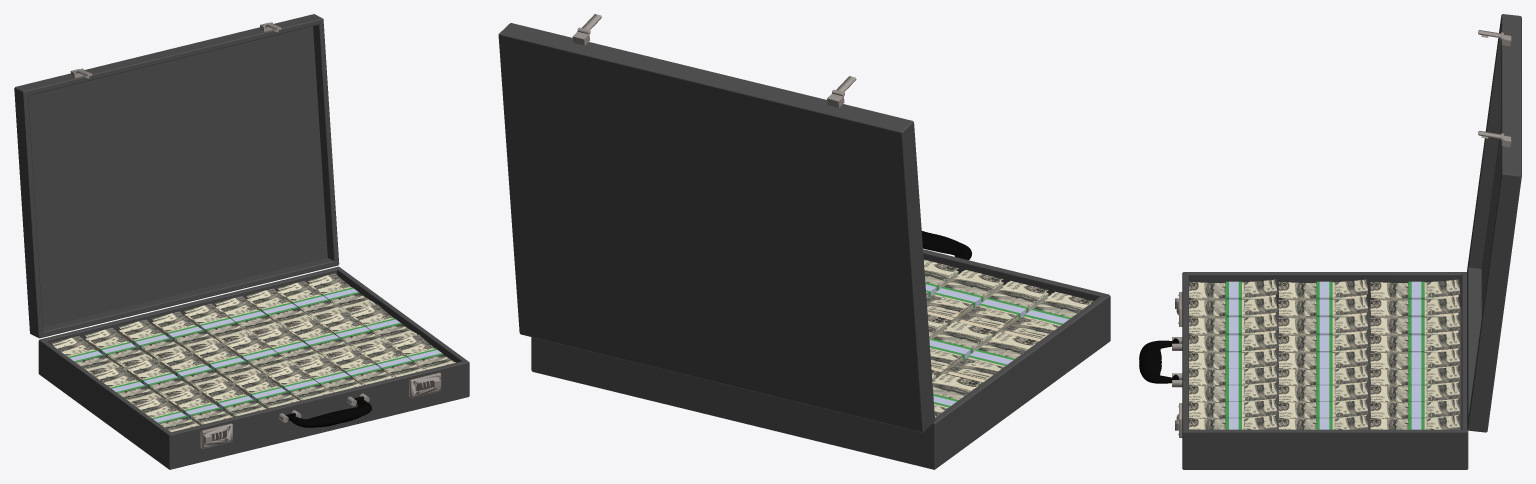
File: Tasna 100 dollar.fbx
3 views of the same model, side by side, from view 1: azimuth 30°, elevation 25°; view 2: azimuth 150°, elevation 25°; view 3: azimuth 270°, elevation 25° (orthographic). The views are drawn at different scales.
Visible parts, largest first — view 1: BRIEFCASE, 100 dollar (×27), BRIEFCASE_GOLD, BRIEFCASE_HANDLE; view 2: BRIEFCASE, 100 dollar (×6), BRIEFCASE_GOLD, BRIEFCASE_HANDLE; view 3: BRIEFCASE, 100 dollar (×27), BRIEFCASE_GOLD, BRIEFCASE_HANDLE.
Boxes of the visible parts, bbox=[...] form: BRIEFCASE: bbox=[14, 14, 469, 469]; 100 dollar (×27): bbox=[51, 273, 455, 431]; BRIEFCASE_GOLD: bbox=[70, 22, 441, 448]; BRIEFCASE_HANDLE: bbox=[286, 396, 371, 427]; BRIEFCASE: bbox=[498, 23, 1110, 469]; 100 dollar (×6): bbox=[926, 271, 1090, 415]; BRIEFCASE_GOLD: bbox=[572, 14, 856, 107]; BRIEFCASE_HANDLE: bbox=[921, 231, 971, 260]; BRIEFCASE: bbox=[1182, 14, 1521, 469]; 100 dollar (×27): bbox=[1192, 279, 1460, 429]; BRIEFCASE_GOLD: bbox=[1172, 30, 1511, 437]; BRIEFCASE_HANDLE: bbox=[1139, 338, 1178, 383].
Size of the model in its own units: 700 by 629 by 706.
166 materials, 108 textured.
